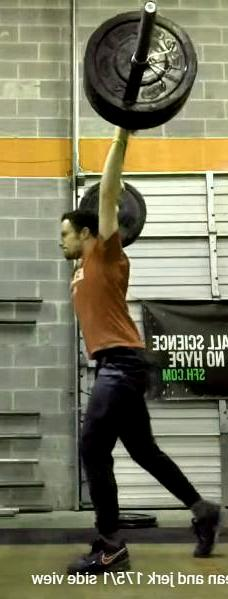Barbell: (140, 1, 157, 16)
